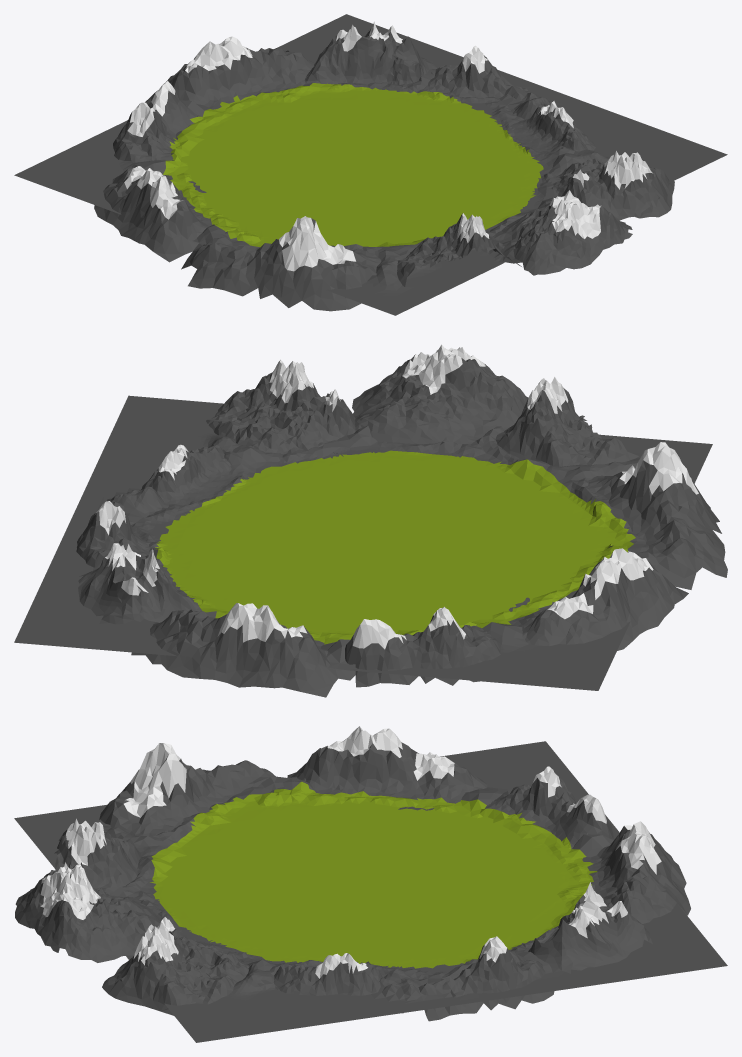
File: D1_TERRAIN_GROUND AND MOUNTAINS.fbx
The picture shows the model from 3 angles, top to bottom: view 1: azimuth 30°, elevation 25°; view 2: azimuth 150°, elevation 25°; view 3: azimuth 270°, elevation 25°; orthographic projection. The views are drawn at different scales.
Parts seen in each view (by area): view 1: Plane.058; view 2: Plane.058; view 3: Plane.058.
Boxes of the visible parts, x1,y1,x2,y2 form: Plane.058: (14,14,727,315); Plane.058: (14,344,727,697); Plane.058: (14,726,727,1042).
Size of the model in its own units: 472743 by 58302 by 472743.
